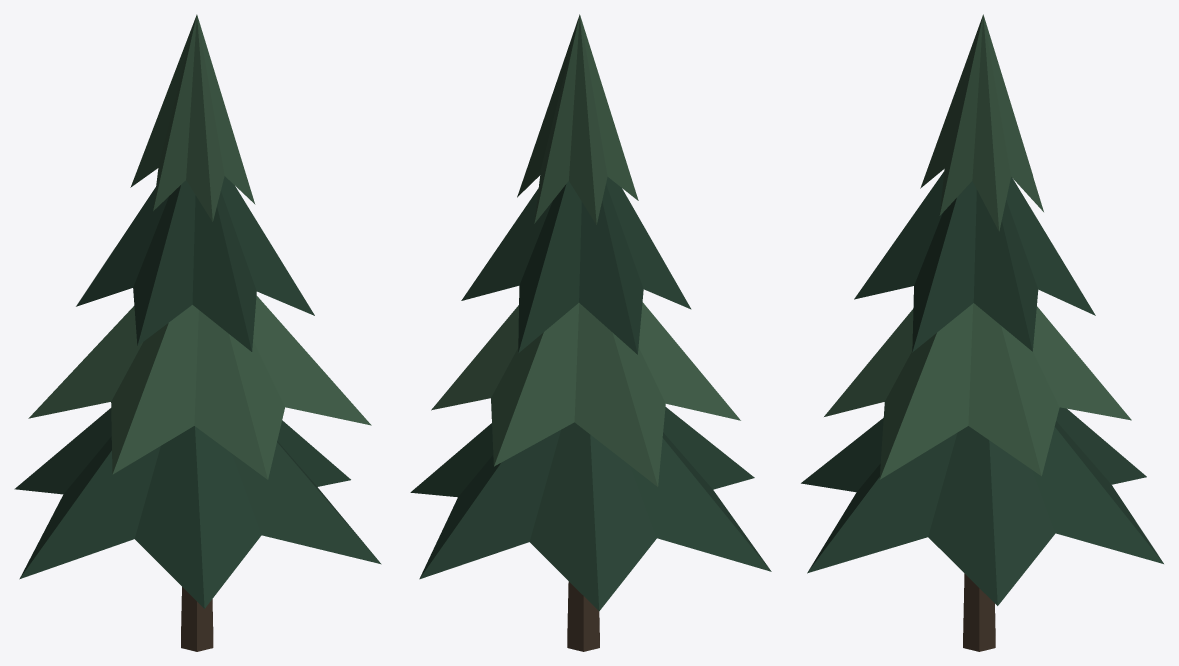
The model's file is tree_pine_01_lod1.glb.
3 renders of one model, left to right at view 1: azimuth 30°, elevation 25°; view 2: azimuth 150°, elevation 25°; view 3: azimuth 270°, elevation 25°, orthographic.
Parts seen in each view (by area): view 1: tree_pine_01_lod1; view 2: tree_pine_01_lod1; view 3: tree_pine_01_lod1.
Boxes of the visible parts, x1,y1,x2,y2 form: tree_pine_01_lod1: [14, 14, 381, 651]; tree_pine_01_lod1: [410, 14, 771, 651]; tree_pine_01_lod1: [801, 14, 1163, 651].
Size of what is drawn, in the model's own units: 4.67 by 8.1 by 4.24.
1 material, 1 textured.
